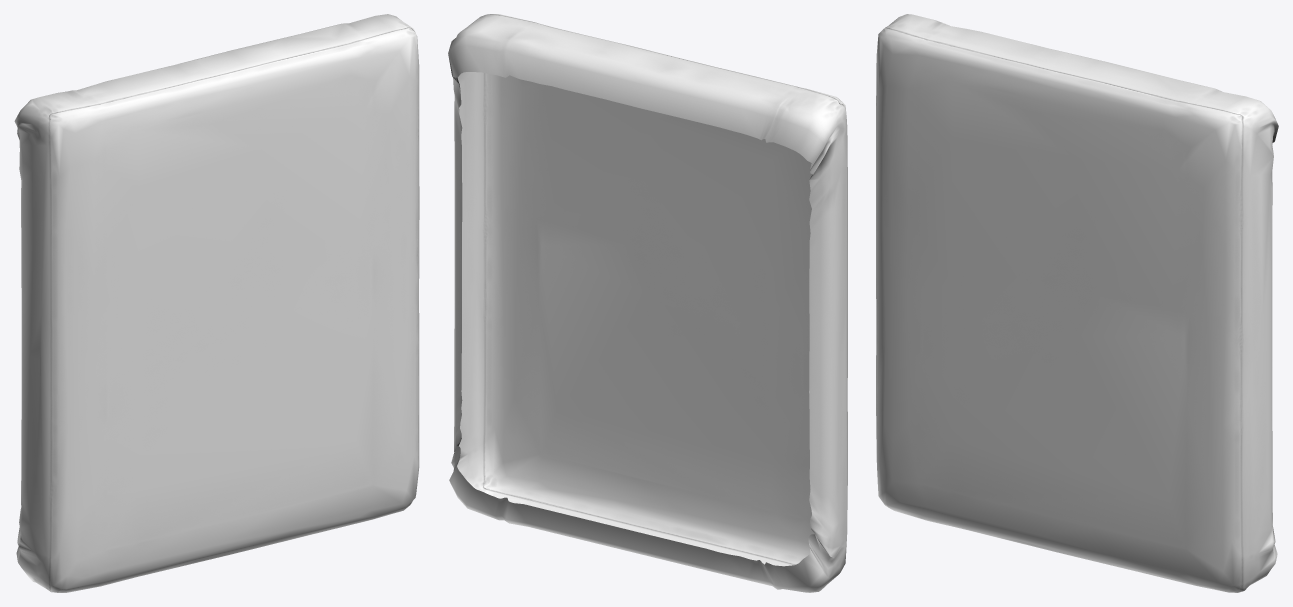
File: BedMattress_11_BedMattress_11_1.obj
3 views of the same model, side by side, from view 1: azimuth 30°, elevation 25°; view 2: azimuth 150°, elevation 25°; view 3: azimuth 330°, elevation 25° (orthographic).
Visible parts, largest first — view 1: BedMattress_11; view 2: BedMattress_11; view 3: BedMattress_11.
Boxes of the visible parts, box(x1,y1,x2,y2) form: BedMattress_11: box(14, 14, 419, 592); BedMattress_11: box(448, 14, 847, 592); BedMattress_11: box(876, 14, 1278, 592).
Bounding box in the file's own units: 1.95 × 2.38 × 0.3455.
